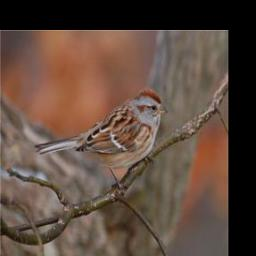Sparrow: (34, 88, 170, 196)
